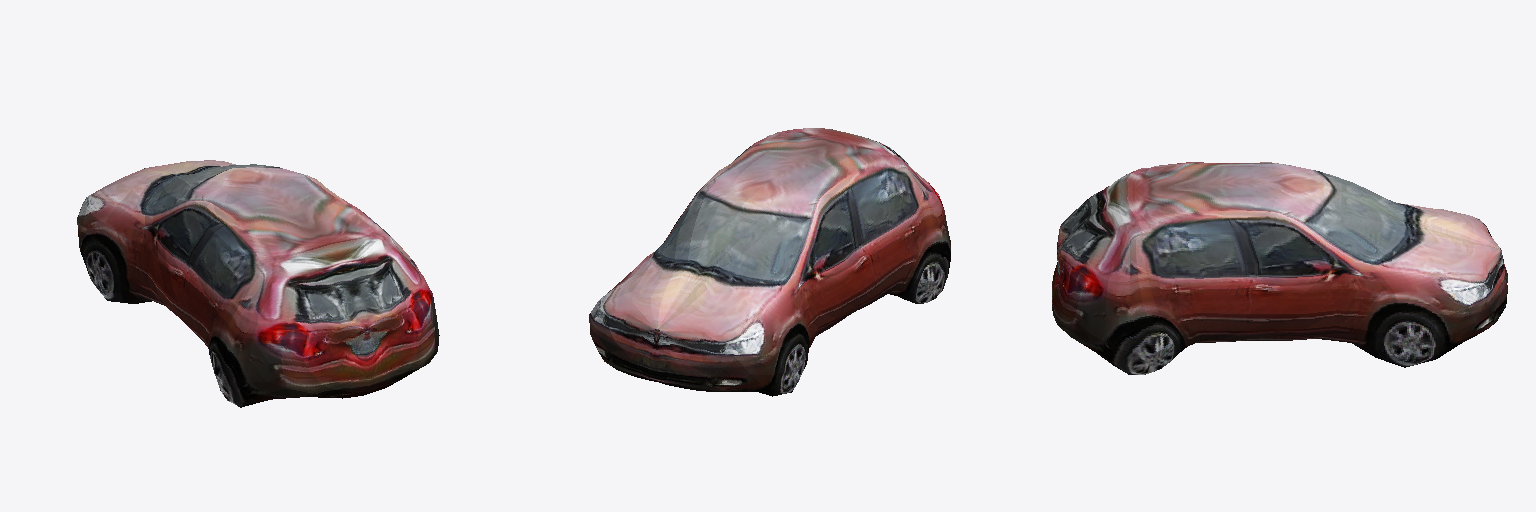
3 renders of one model, left to right at view 1: azimuth 30°, elevation 25°; view 2: azimuth 150°, elevation 25°; view 3: azimuth 270°, elevation 25°, orthographic.
Bounding box in the file's own units: 1.03 × 0.7033 × 1.95.
Materials: 1 (1 with a texture image).